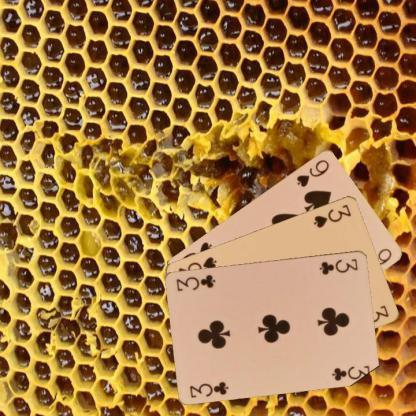3c: (316, 256, 360, 276), (187, 378, 230, 398)
3s: (310, 201, 352, 230)
9s: (294, 155, 331, 188)
